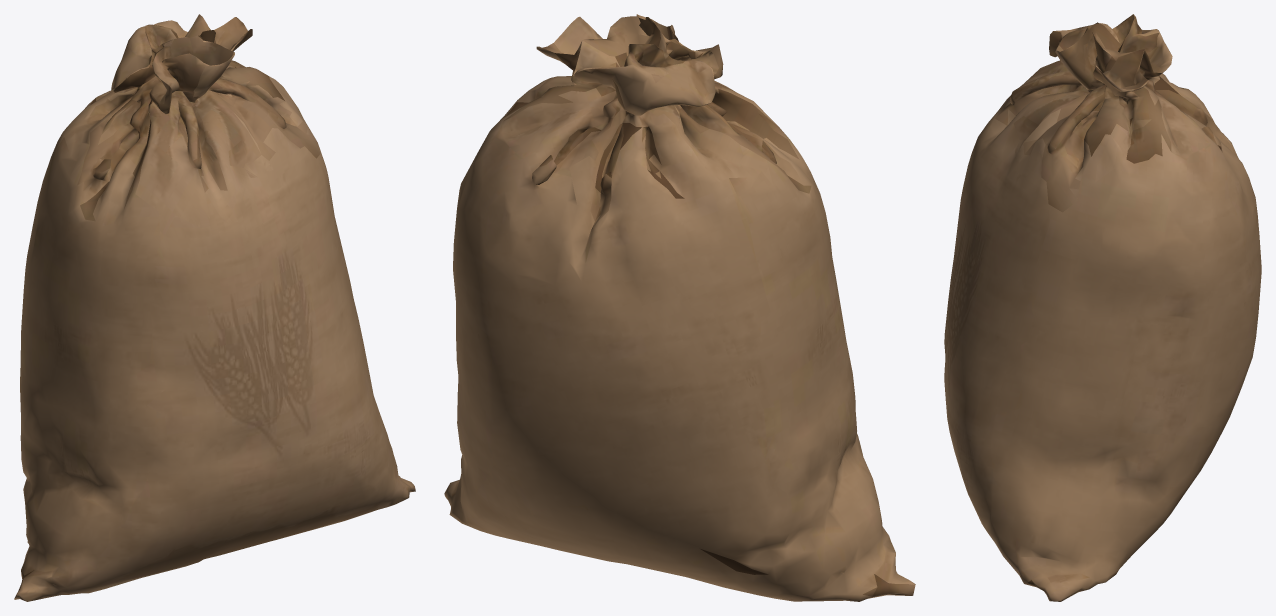
The model's file is WheatSack.glb.
3 renders of one model, left to right at view 1: azimuth 30°, elevation 25°; view 2: azimuth 150°, elevation 25°; view 3: azimuth 270°, elevation 25°, orthographic. The views are drawn at different scales.
Visible parts, largest first — view 1: WheatSack; view 2: WheatSack; view 3: WheatSack.
Part boxes in pixels (x1,y1,x2,y2): WheatSack: (14,14,415,601); WheatSack: (444,14,915,601); WheatSack: (944,14,1261,601).
Size of the model in its own units: 0.8851 by 1.02 by 0.6063.
1 material, 1 textured.
